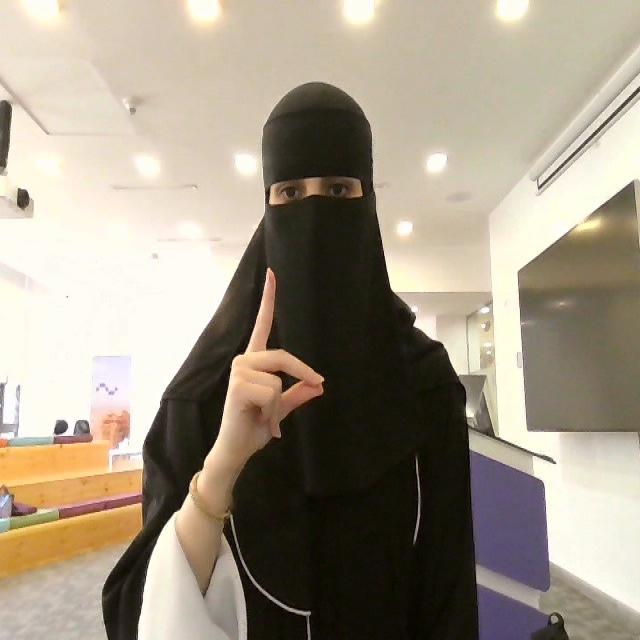emergency: (199, 265, 325, 503)
